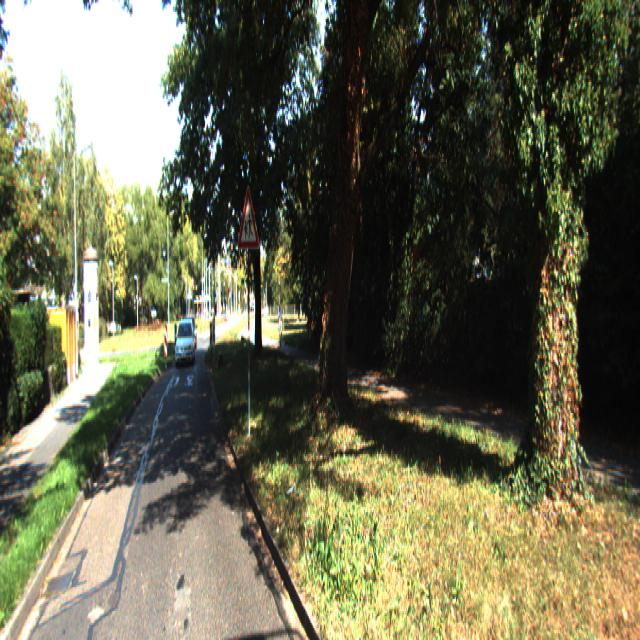Car: (175, 318, 194, 368)
